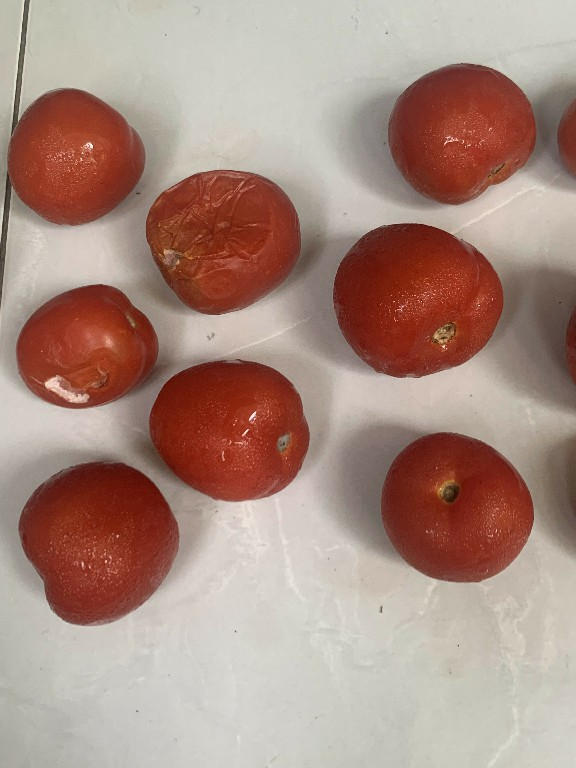NG: (132, 165, 303, 319), (13, 282, 154, 417)
OK: (9, 454, 193, 634), (134, 353, 321, 520), (326, 214, 509, 383), (372, 426, 540, 598), (378, 55, 546, 211), (0, 63, 147, 236)
